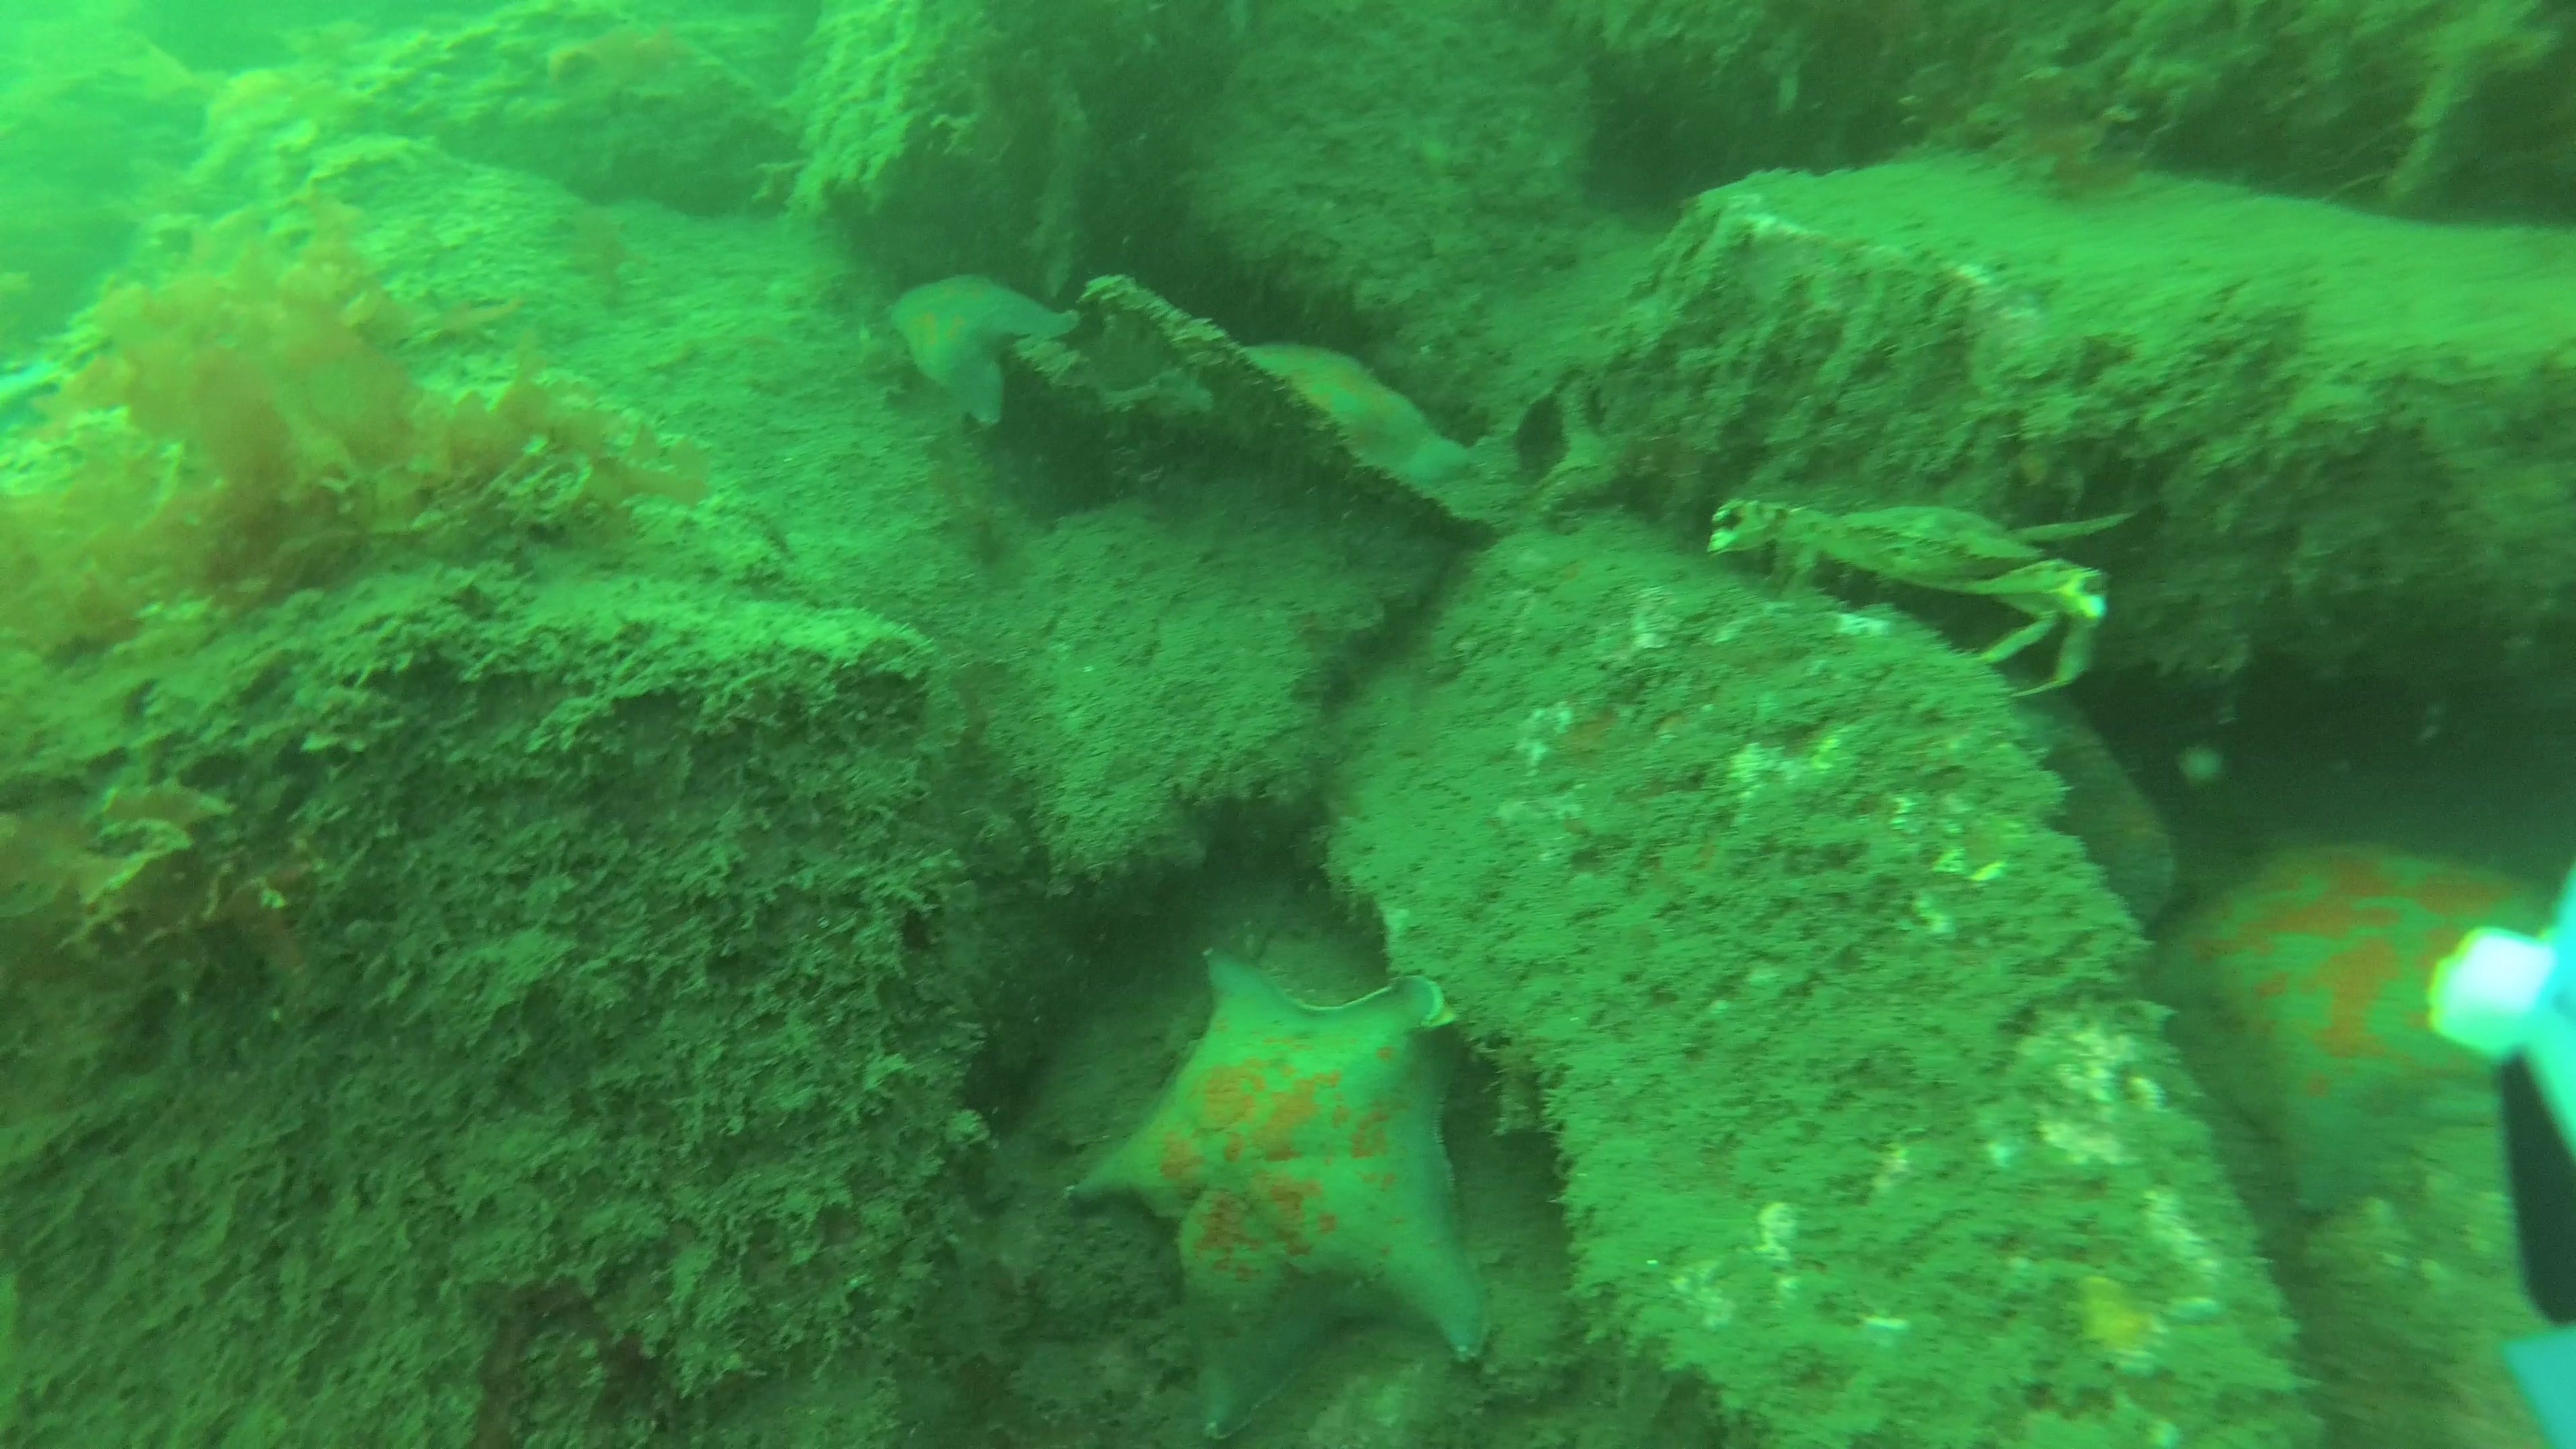starfish: (1062, 952, 1484, 1440), (2167, 846, 2542, 1208), (1244, 340, 1465, 485), (890, 272, 1083, 428)
